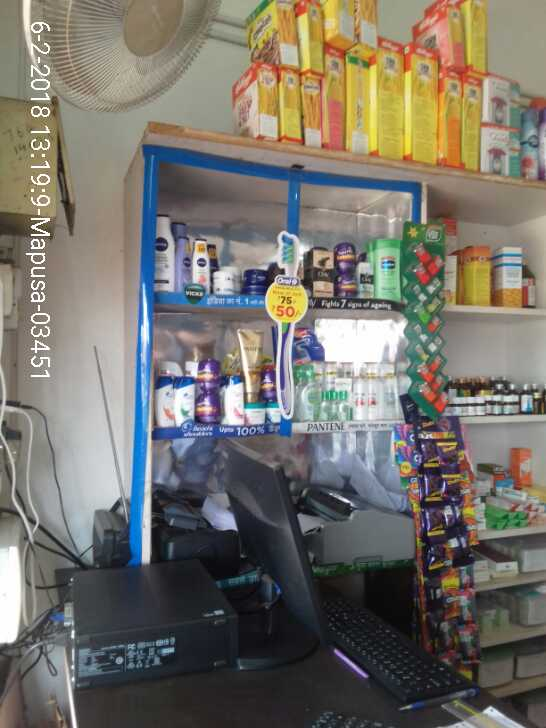beauty: (308, 250, 336, 303), (171, 380, 195, 428), (156, 372, 172, 424), (366, 378, 383, 420), (350, 380, 366, 421)
